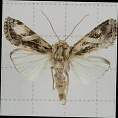Spodoptera litura: (2, 10, 117, 106)
